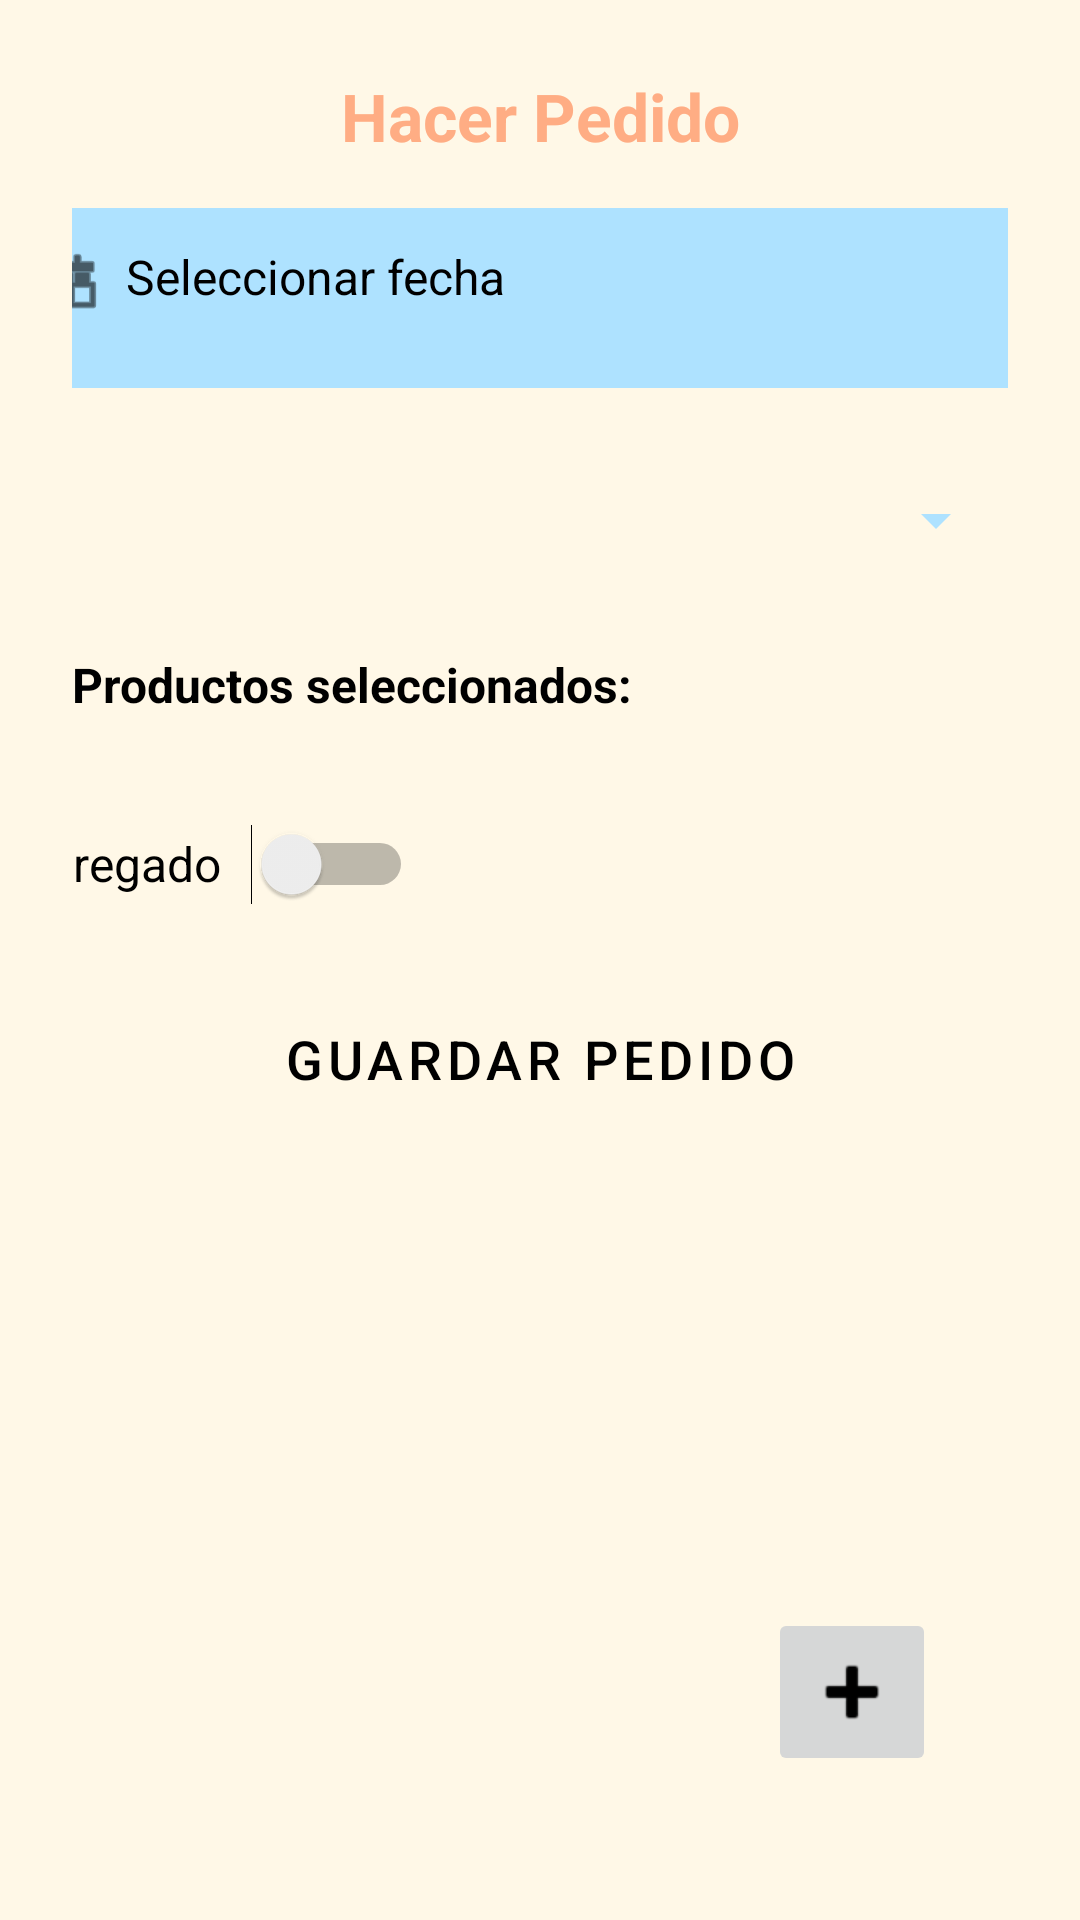

Icon bounding boxes for this 1080w x 1920h phone screenshot, format [x1, y1, x2, y2]:
Agregar proveedor: [780, 1626, 924, 1758]
